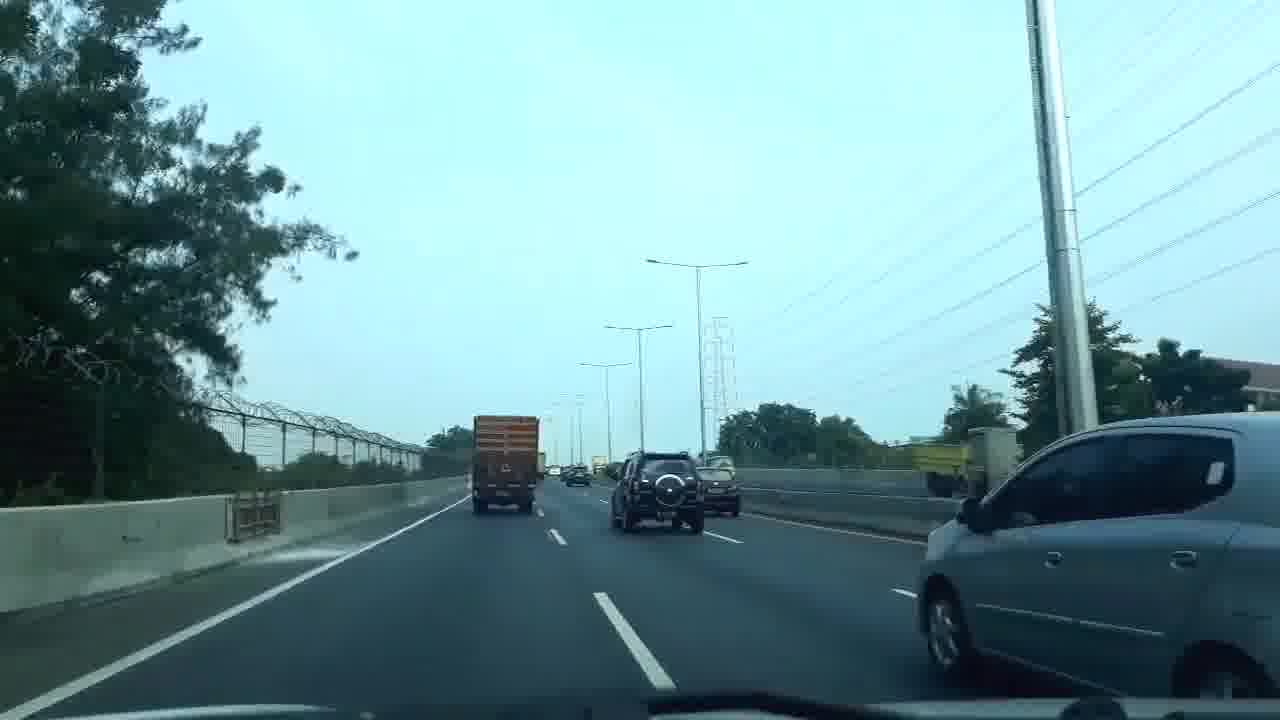plate_positive: (656, 510, 679, 518), (496, 489, 513, 496), (707, 488, 726, 494)
